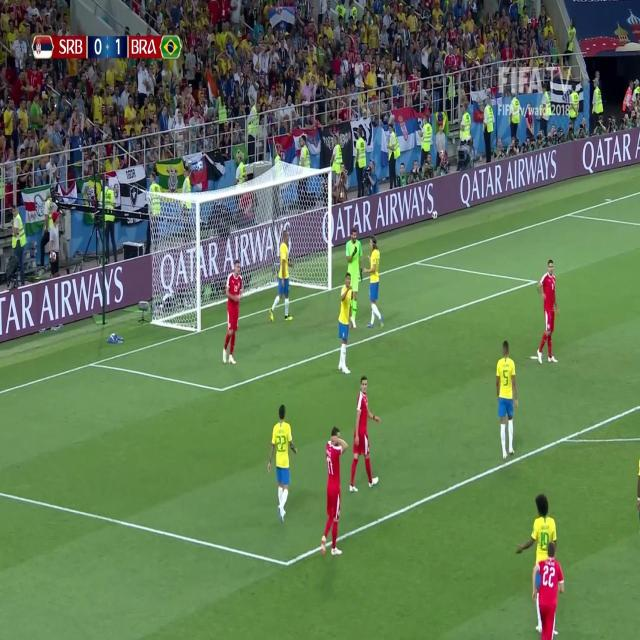player: (516, 488, 565, 636), (318, 419, 350, 554), (348, 373, 382, 495), (268, 400, 298, 523), (532, 536, 566, 640), (532, 255, 563, 366), (494, 336, 519, 458), (221, 254, 246, 366), (269, 222, 293, 325), (334, 266, 354, 374), (344, 225, 364, 323), (365, 230, 384, 330)
